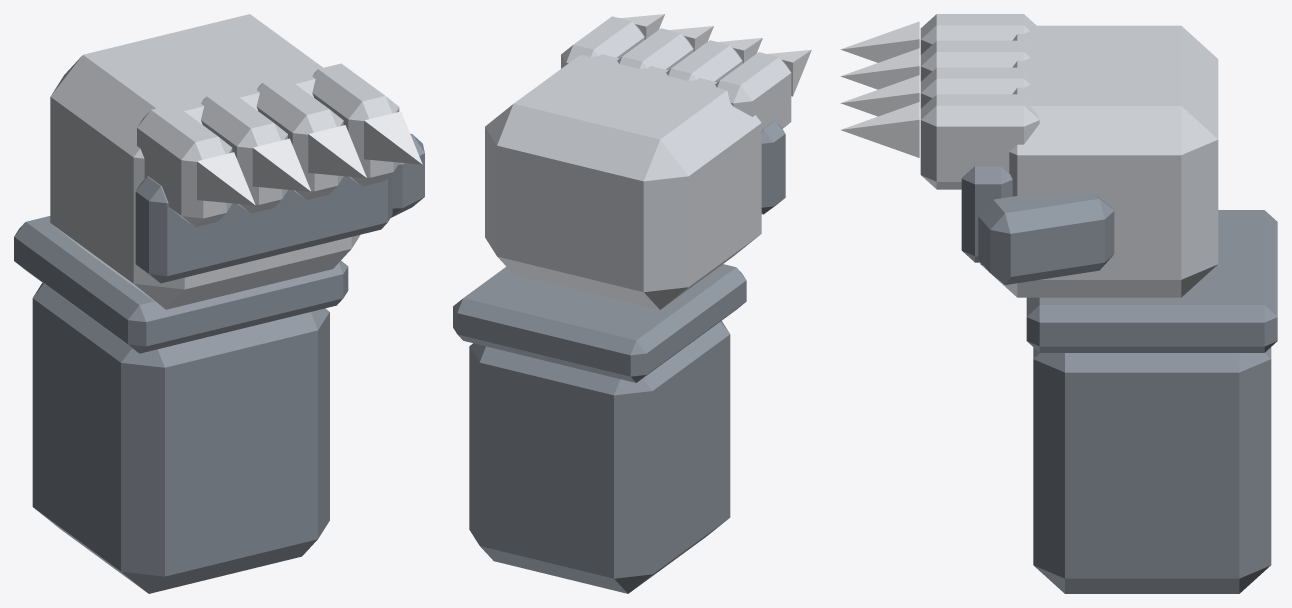
File: IronGauntlet.fbx
3 views of the same model, side by side, from view 1: azimuth 30°, elevation 25°; view 2: azimuth 150°, elevation 25°; view 3: azimuth 270°, elevation 25° (orthographic). The views are drawn at different scales.
Parts seen in each view (by area): view 1: IronGauntlet; view 2: IronGauntlet; view 3: IronGauntlet.
Boxes of the visible parts, <box> form: IronGauntlet: <box>14,14,424,593</box>; IronGauntlet: <box>453,14,811,593</box>; IronGauntlet: <box>840,14,1277,593</box>.
Bounding box in the file's own units: 1.26 × 2.08 × 1.65.
Materials: 1 (1 with a texture image).
